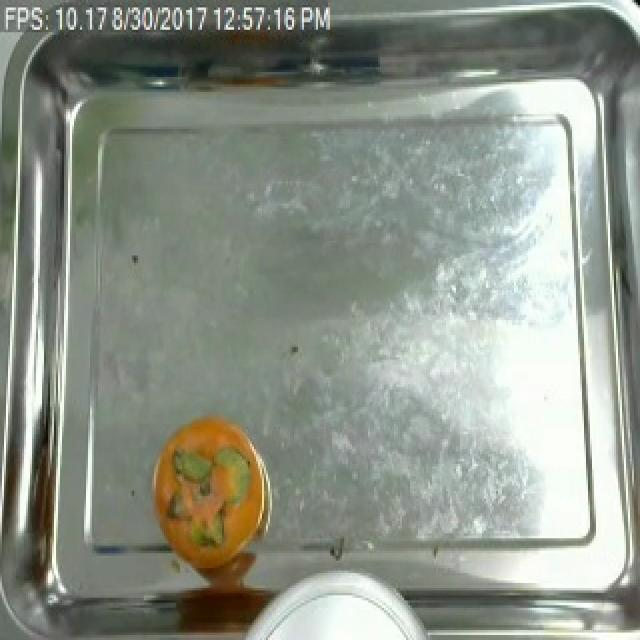Fruit: (144, 407, 268, 573)
